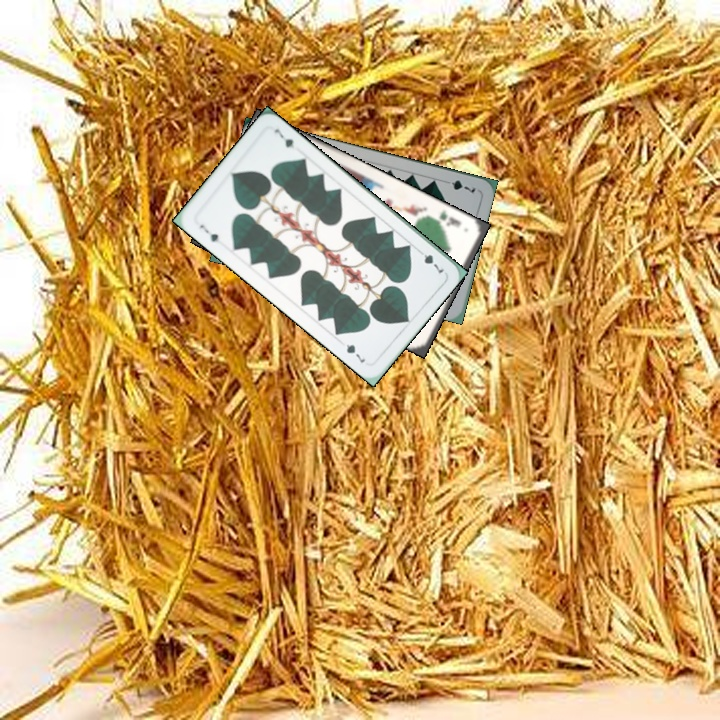G7: (413, 245, 447, 276), (439, 176, 478, 195), (195, 220, 221, 245)
GK: (429, 206, 464, 230)
